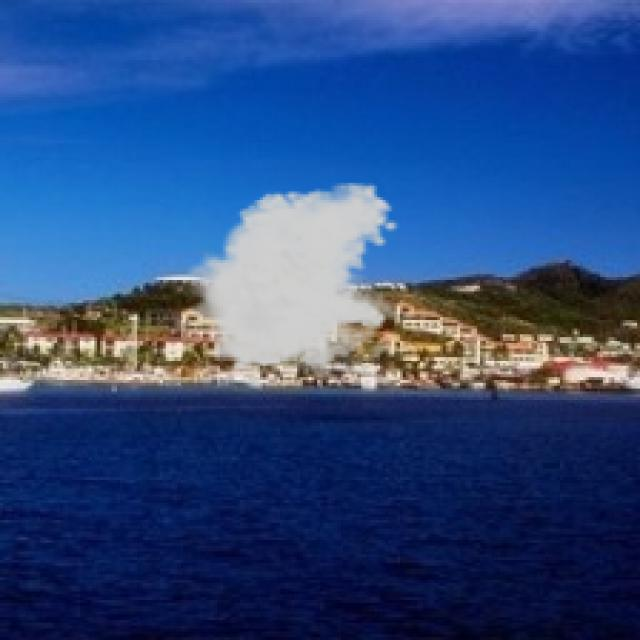Smoke: (180, 180, 400, 383)
